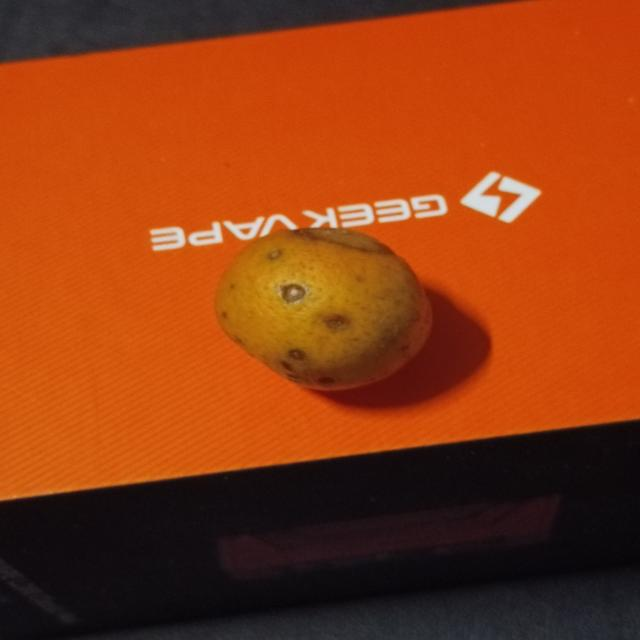black spot: (205, 216, 436, 392)
